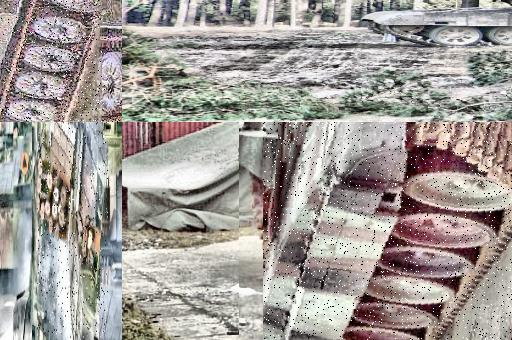tanks: (264, 123, 512, 340), (38, 123, 109, 340), (1, 1, 106, 123), (1, 123, 76, 271), (362, 6, 512, 47), (492, 1, 500, 8)
